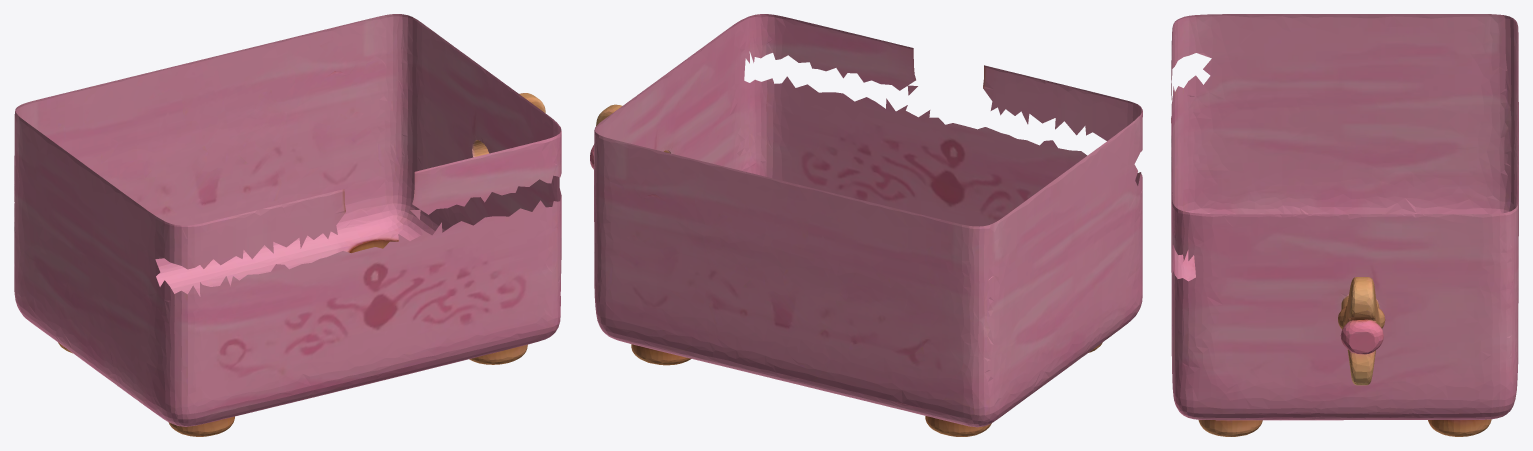
3 views of the same model, side by side, from view 1: azimuth 30°, elevation 25°; view 2: azimuth 150°, elevation 25°; view 3: azimuth 270°, elevation 25° (orthographic). The views are drawn at different scales.
Parts seen in each view (by area): view 1: source_surface_0; view 2: source_surface_0; view 3: source_surface_0.
Boxes of the visible parts, <box> form: source_surface_0: <box>14,14,561,436</box>; source_surface_0: <box>590,14,1142,436</box>; source_surface_0: <box>1171,14,1518,436</box>.
Bounding box in the file's own units: 0.12 × 0.0571 × 0.0754.
1 material, 1 textured.
